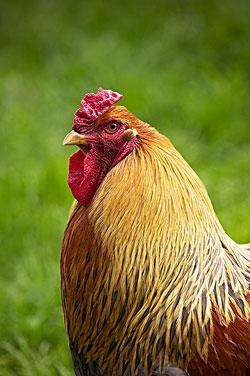chicken: (52, 79, 249, 376)
